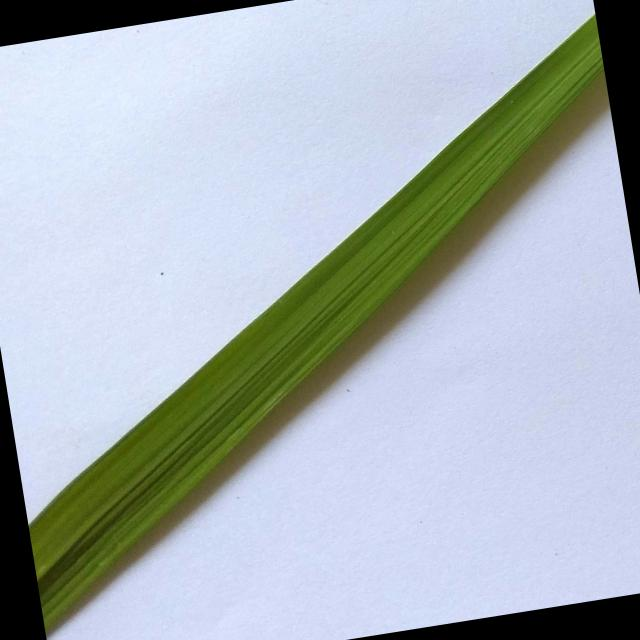Rice_Healthy: (29, 15, 604, 627)
